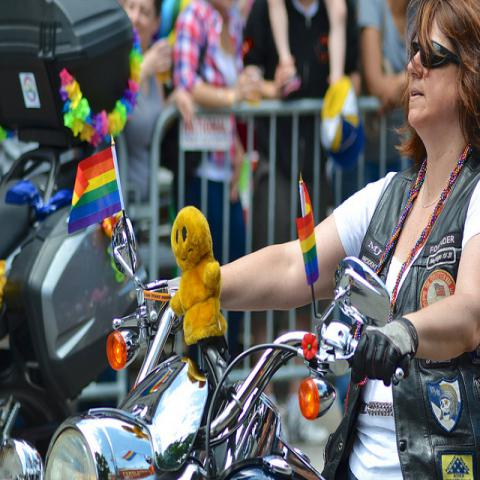motorcycle: (46, 207, 400, 475)
